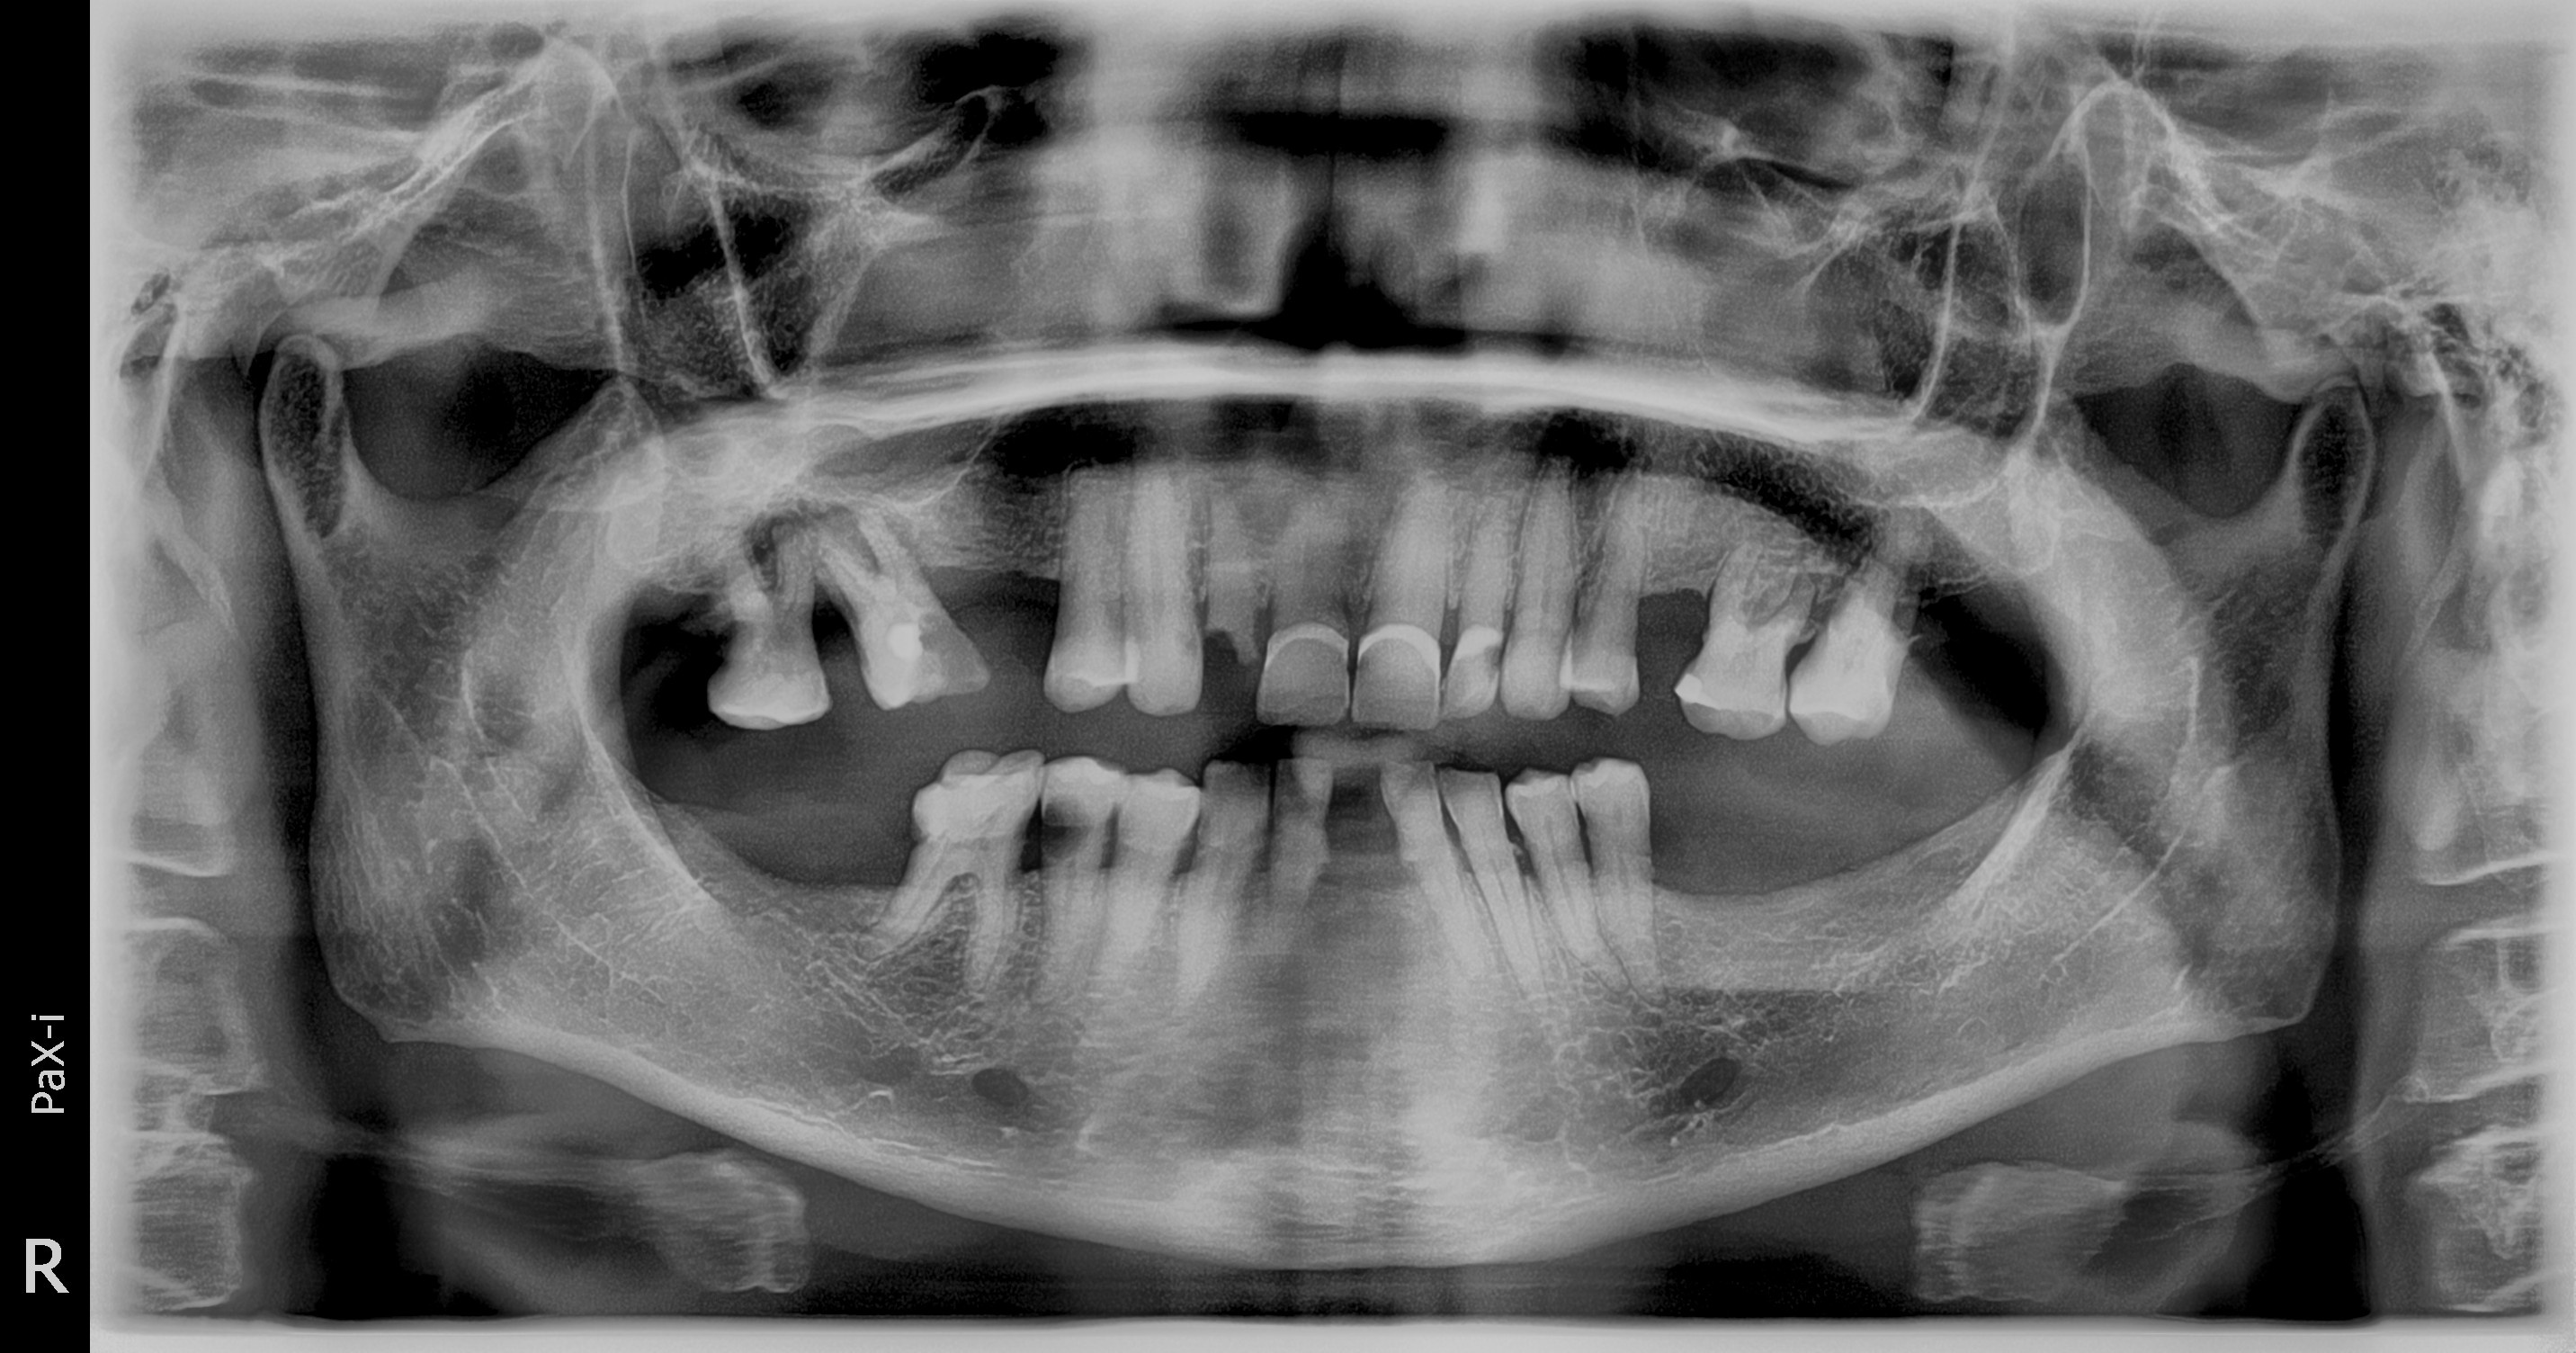API: (750, 496, 818, 561), (789, 508, 852, 573), (843, 503, 918, 542)
BON: (1787, 583, 1833, 656), (813, 600, 852, 648), (1022, 811, 1043, 884), (1443, 821, 1470, 872), (1101, 803, 1118, 883), (1579, 820, 1601, 876), (1506, 816, 1523, 883), (1174, 833, 1193, 890), (1257, 816, 1269, 879), (1506, 602, 1513, 639)
CAR: (923, 612, 986, 711), (1046, 799, 1095, 861), (721, 612, 756, 671), (1193, 821, 1223, 876), (1305, 799, 1334, 852), (1274, 762, 1305, 809), (1249, 820, 1269, 855)
FUR: (845, 537, 891, 586)
OBT: (913, 760, 995, 842), (884, 610, 930, 673), (1676, 675, 1707, 719)
PRR: (1259, 603, 1343, 729), (1354, 613, 1435, 729), (1446, 632, 1508, 731)
ROT: (1211, 503, 1254, 668)
